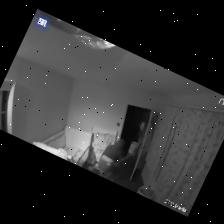person: (98, 139, 125, 179)
